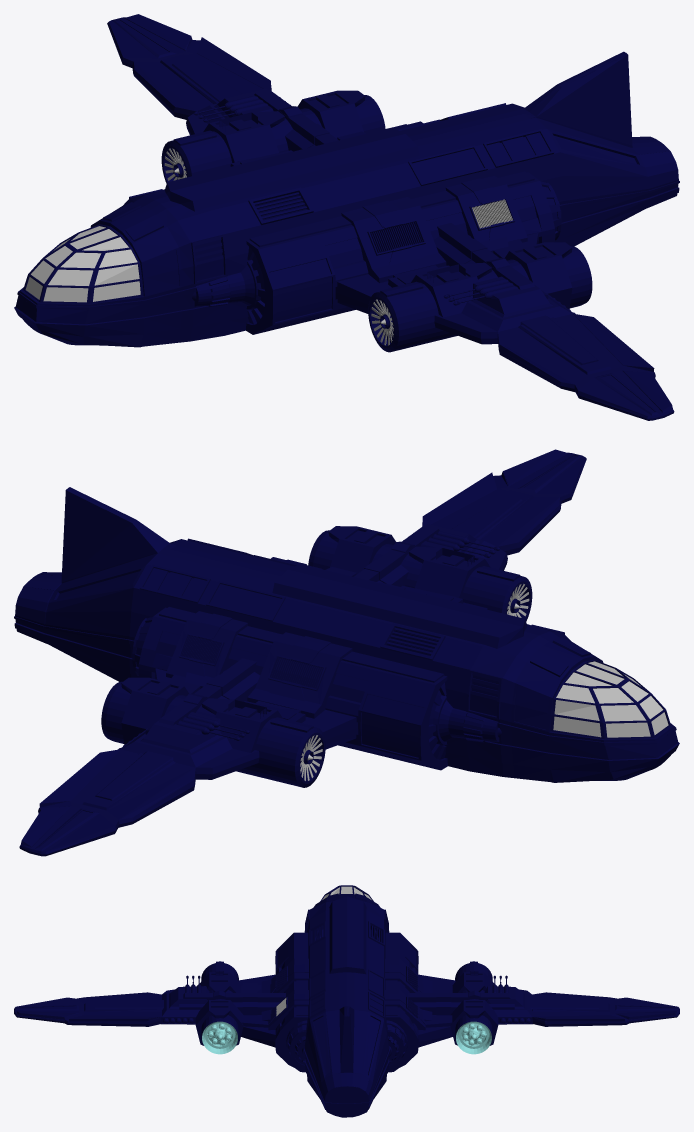
Rendered from space_shipe.glb.
3 renders of one model, top to bottom at view 1: azimuth 30°, elevation 25°; view 2: azimuth 150°, elevation 25°; view 3: azimuth 270°, elevation 25°, orthographic. The views are drawn at different scales.
Parts seen in each view (by area): view 1: polySurface415, polySurface742, polySurface417, pCube130, polySurface439, polySurface420; view 2: polySurface415, polySurface742, polySurface419, pCube130, polySurface439, polySurface420; view 3: polySurface742, polySurface415, polySurface419, polySurface417, pCube130.
Boxes of the visible parts, x1=… form: polySurface415: x1=14, y1=51, x2=679, y2=347; polySurface742: x1=107, y1=14, x2=674, y2=420; polySurface417: x1=192, y1=171, x2=561, y2=334; pCube130: x1=165, y1=127, x2=419, y2=211; polySurface439: x1=25, y1=226, x2=140, y2=302; polySurface420: x1=23, y1=224, x2=143, y2=303; polySurface415: x1=14, y1=487, x2=679, y2=782; polySurface742: x1=19, y1=449, x2=586, y2=856; polySurface419: x1=132, y1=607, x2=501, y2=770; pCube130: x1=272, y1=564, x2=527, y2=648; polySurface439: x1=553, y1=661, x2=668, y2=737; polySurface420: x1=550, y1=659, x2=670, y2=739; polySurface742: x1=14, y1=961, x2=679, y2=1054; polySurface415: x1=304, y1=893, x2=389, y2=1117; polySurface419: x1=385, y1=932, x2=455, y2=1072; polySurface417: x1=238, y1=932, x2=308, y2=1072; pCube130: x1=329, y1=896, x2=366, y2=974.
Bounding box in the file's own units: 0.4795 × 0.1289 × 0.7058.
